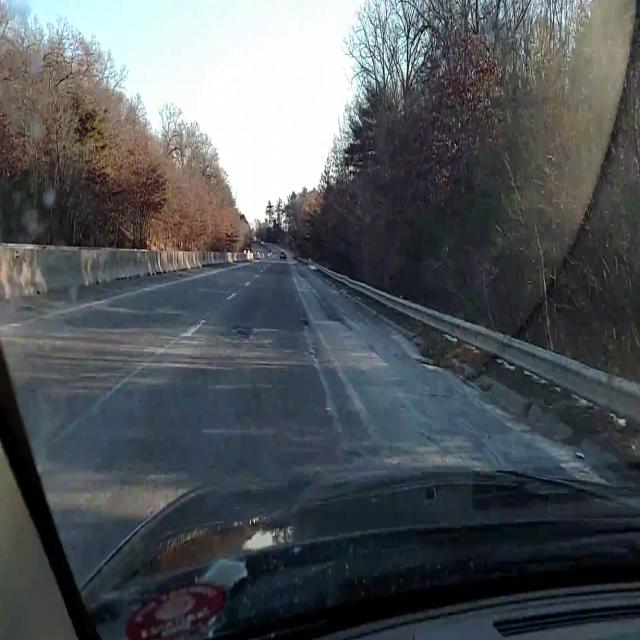Pothole: (232, 325, 278, 339), (302, 319, 310, 328)
